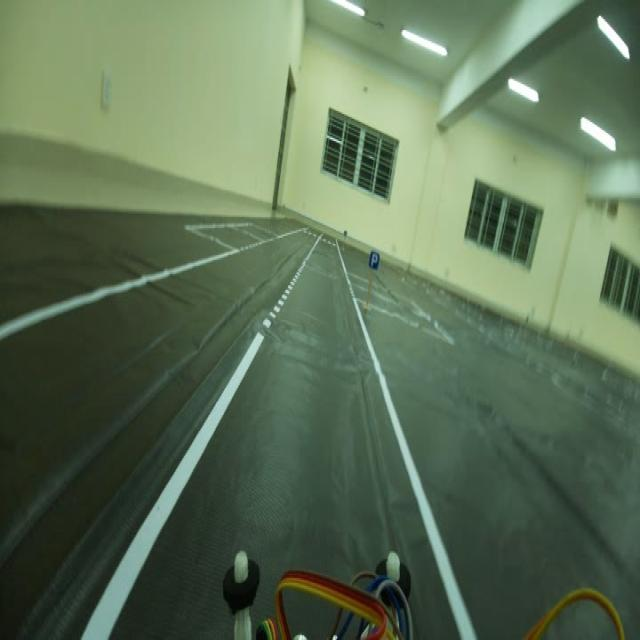parking: (367, 245, 382, 272)
